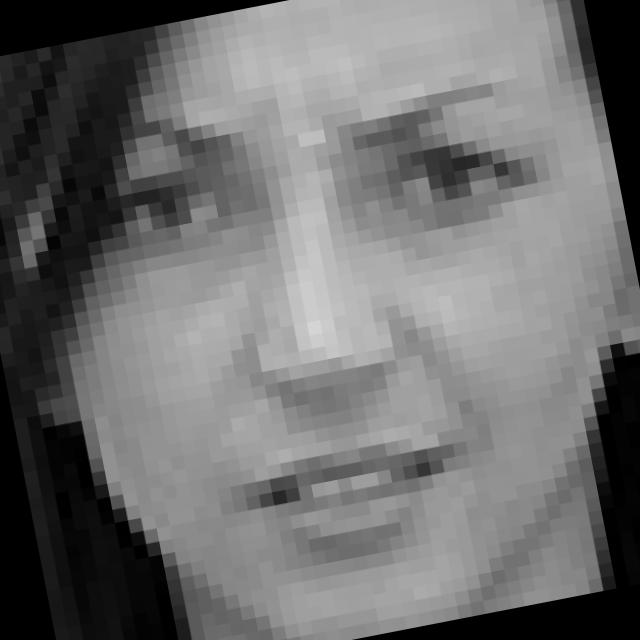disgust: (66, 44, 609, 593)
